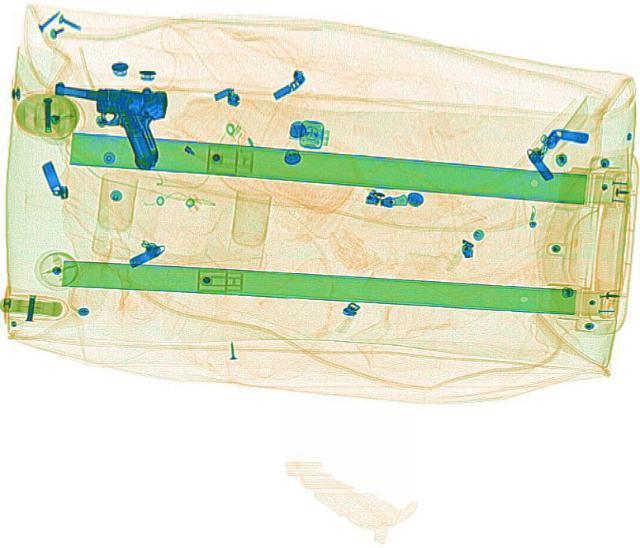Gun: (41, 81, 171, 168)
